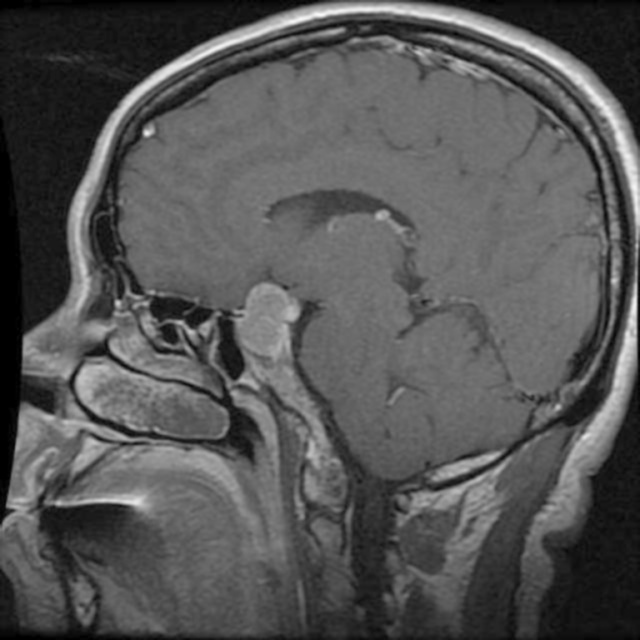no tumor: (238, 276, 300, 368)
